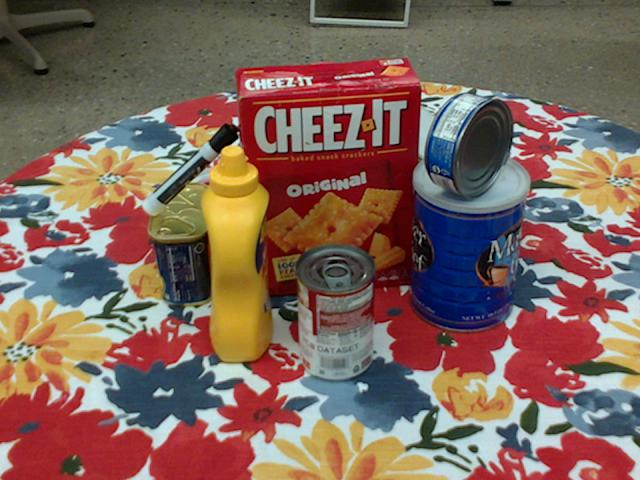cracker_box: (236, 58, 423, 296)
gelatin_box: (169, 159, 254, 247)
large_marker: (142, 123, 240, 215)
master_chef_can: (412, 150, 528, 335)
mug: (319, 122, 403, 221)
mustard_bottle: (201, 146, 271, 362)
potted_meat_can: (147, 182, 214, 307)
sugar_box: (366, 95, 530, 254)
tomato_soup_can: (294, 244, 374, 382)
tuna_fish_can: (427, 93, 513, 198)
